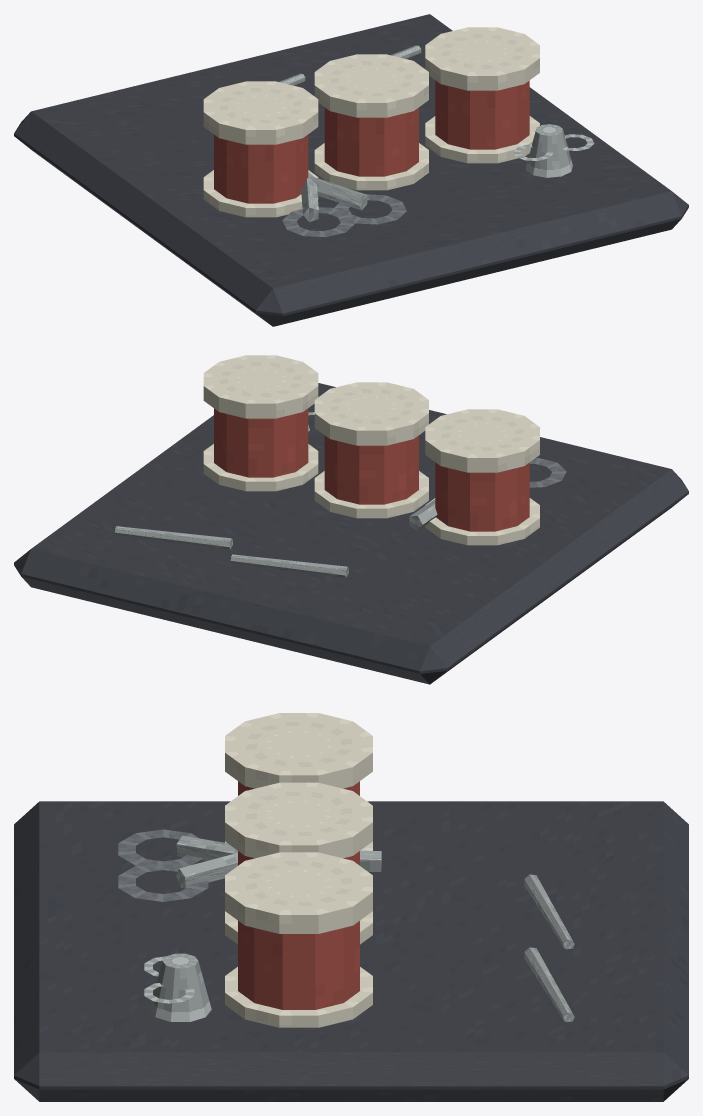
Rendered from tailors_kit.glb.
3 views of the same model, one above another, from view 1: azimuth 30°, elevation 25°; view 2: azimuth 150°, elevation 25°; view 3: azimuth 270°, elevation 25° (orthographic). The views are drawn at different scales.
Visible parts, largest first — view 1: block_recessed kit tray, block_spool end (×6), block_thread spool (×3), block_thimble, block_folded scissor blade 0 (×2); view 2: block_recessed kit tray, block_spool end (×6), block_thread spool (×3), block_sewing needle (×2), block_folded scissor blade 1; view 3: block_recessed kit tray, block_spool end (×5), block_thread spool, block_thimble, block_sewing needle (×2), block_folded scissor blade 0 (×2).
Part boxes in pixels (x1,y1,x2,y2): block_recessed kit tray: (14,14,688,326); block_spool end (×6): (203,27,539,217); block_thread spool (×3): (214,80,529,203); block_thimble: (525,124,572,177); block_folded scissor blade 0 (×2): (301,177,367,221); block_recessed kit tray: (14,383,688,684); block_spool end (×6): (203,355,539,545); block_thread spool (×3): (214,408,529,531); block_sewing needle (×2): (115,526,348,577); block_folded scissor blade 1: (409,499,437,530); block_recessed kit tray: (14,801,688,1101); block_spool end (×5): (225,713,372,1027); block_thread spool: (238,921,359,1009); block_thimble: (149,953,211,1021); block_sewing needle (×2): (524,874,574,1022); block_folded scissor blade 0 (×2): (176,835,237,888).
Size of the model in its own units: 0.2503 by 0.0696 by 0.2619.
1 material, 1 textured.
